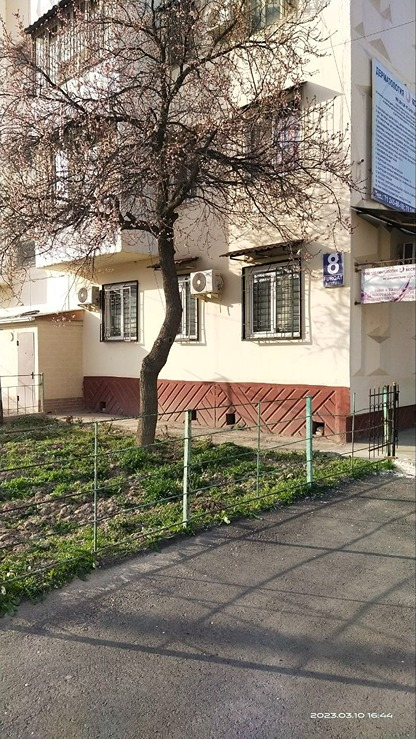tree: (3, 3, 319, 436)
